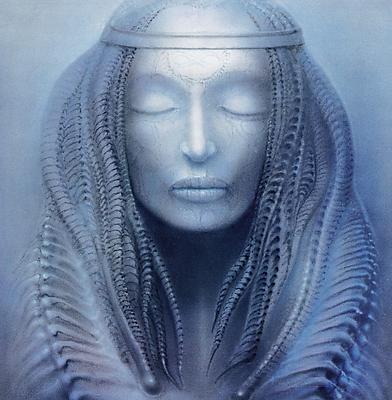person: (38, 1, 366, 400)
